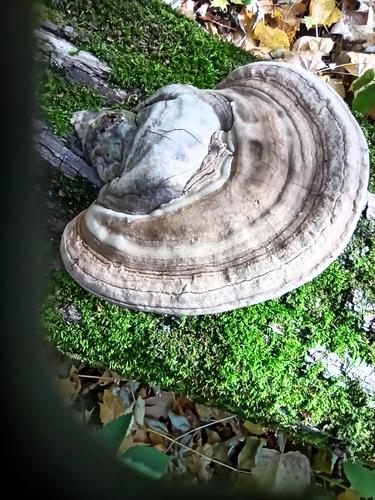Ganoderma - Fruit Body: (58, 51, 375, 322)
